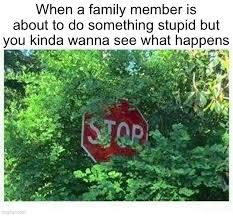stop sign: (81, 99, 149, 166)
